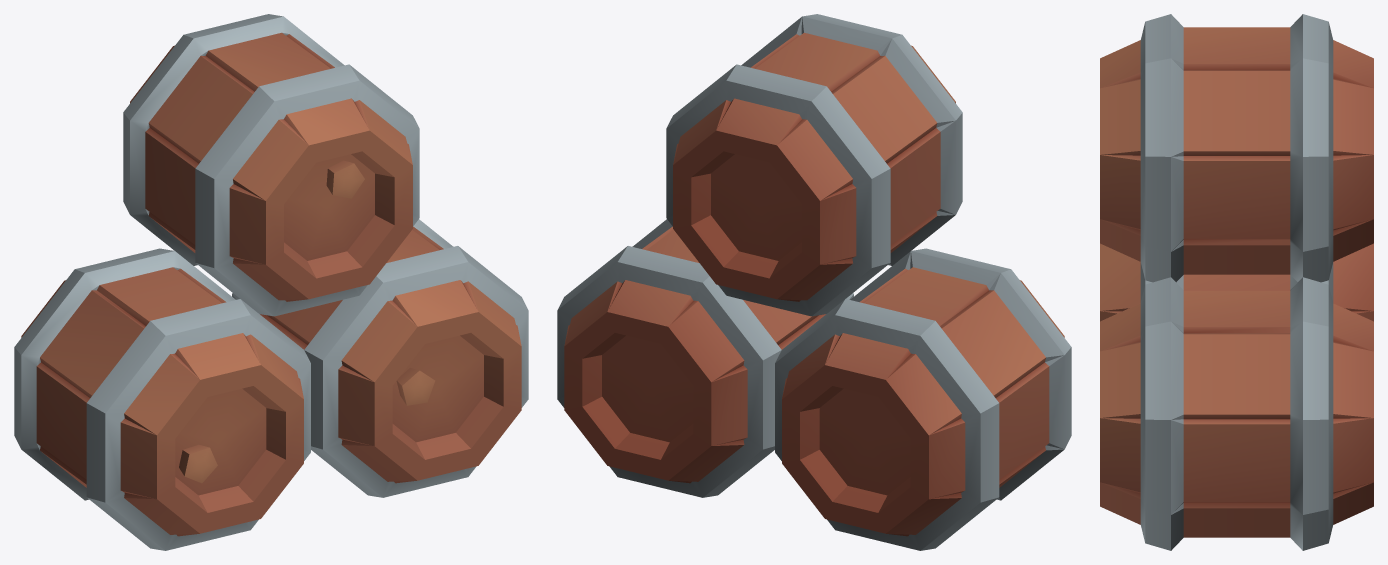
Rendered from barrel_small_stack.glb.
3 renders of one model, left to right at view 1: azimuth 30°, elevation 25°; view 2: azimuth 150°, elevation 25°; view 3: azimuth 270°, elevation 25°, orthographic.
Visible parts, largest first — view 1: barrel_small_stack; view 2: barrel_small_stack; view 3: barrel_small_stack.
Boxes of the visible parts, bbox=[...] form: barrel_small_stack: bbox=[14, 14, 528, 550]; barrel_small_stack: bbox=[557, 14, 1071, 550]; barrel_small_stack: bbox=[1100, 14, 1373, 550].
Bounding box in the file's own units: 1.85 × 1.77 × 1.
Materials: 1 (1 with a texture image).
